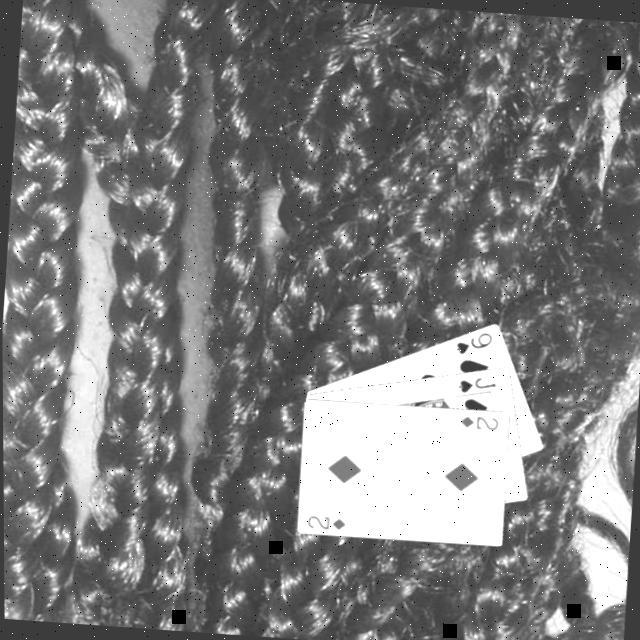2D: (456, 412, 502, 434), (304, 512, 349, 534)
9S: (452, 327, 496, 359)
JS: (455, 372, 498, 398)
